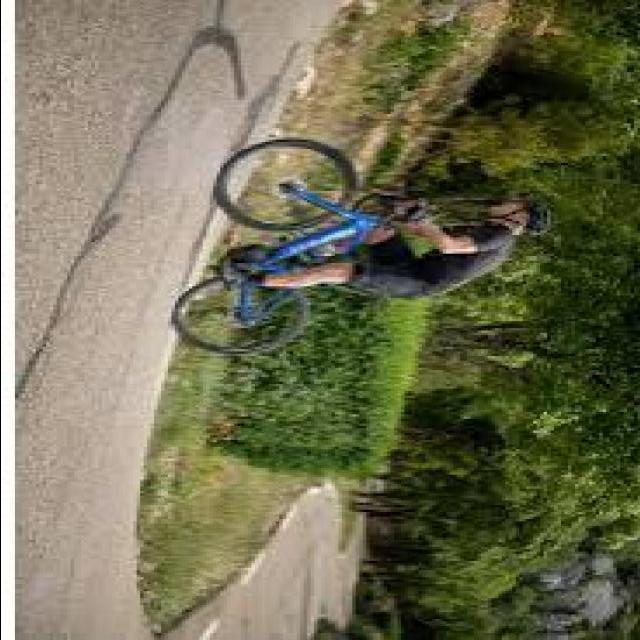bicycle: (171, 141, 425, 357)
